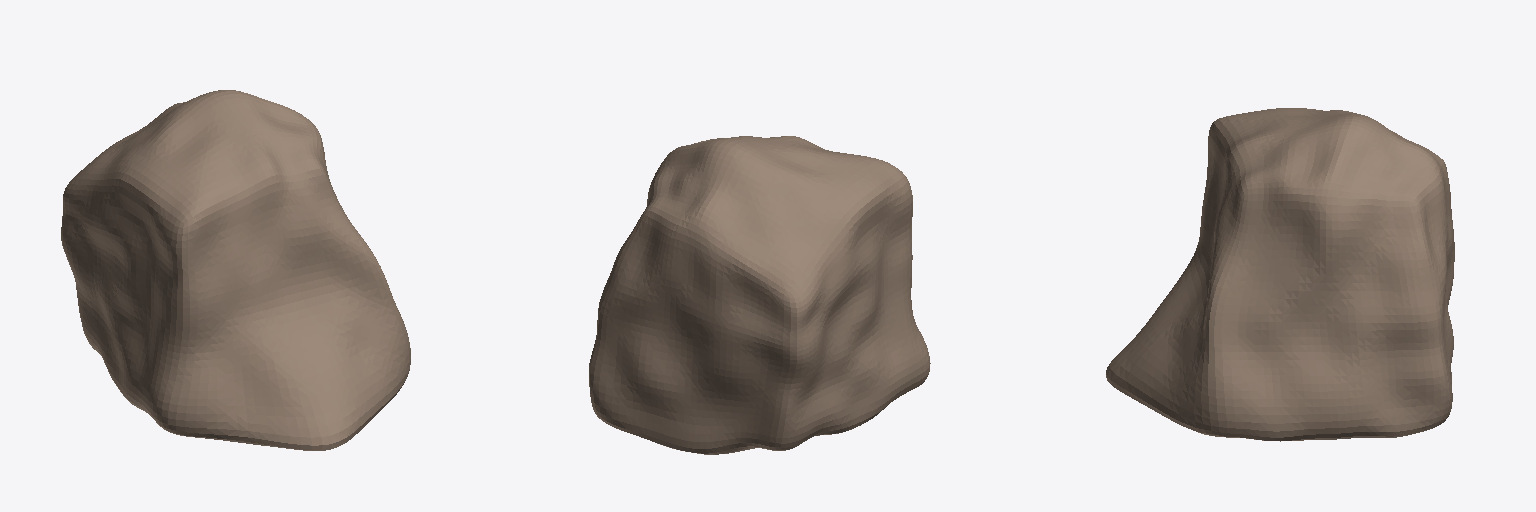
File: rock_tan.obj
3 views of the same model, side by side, from view 1: azimuth 30°, elevation 25°; view 2: azimuth 150°, elevation 25°; view 3: azimuth 270°, elevation 25° (orthographic).
Visible parts, largest first — view 1: Cube; view 2: Cube; view 3: Cube.
Boxes of the visible parts, box(x1,y1,x2,y2) form: Cube: box(61, 90, 410, 450); Cube: box(589, 136, 930, 454); Cube: box(1106, 108, 1454, 441).
Bounding box in the file's own units: 254 × 258 × 298.